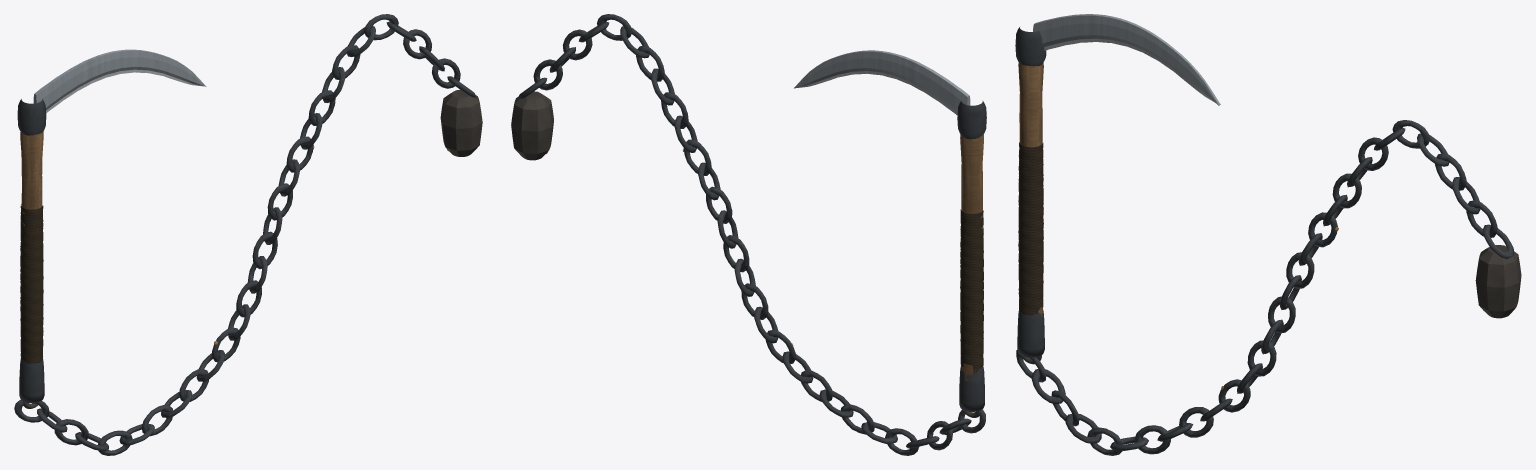
The model's file is chain-sickle.lod1.glb.
3 views of the same model, side by side, from view 1: azimuth 30°, elevation 25°; view 2: azimuth 150°, elevation 25°; view 3: azimuth 330°, elevation 25° (orthographic). The views are drawn at different scales.
Visible parts, largest first — view 1: darksteel / oil-blackened fittings, cord / waxed silk cord wrap, steel / forged blade steel, iron / hammer-scaled wrought iron, wood / oiled hardwood, edge / honed bright bevel; view 2: darksteel / oil-blackened fittings, cord / waxed silk cord wrap, steel / forged blade steel, iron / hammer-scaled wrought iron, wood / oiled hardwood, edge / honed bright bevel; view 3: darksteel / oil-blackened fittings, cord / waxed silk cord wrap, steel / forged blade steel, iron / hammer-scaled wrought iron, wood / oiled hardwood, edge / honed bright bevel.
Part boxes in pixels (x1,y1,x2,y2): darksteel / oil-blackened fittings: [14, 14, 475, 455]; cord / waxed silk cord wrap: [20, 205, 43, 363]; steel / forged blade steel: [33, 49, 206, 110]; iron / hammer-scaled wrought iron: [22, 89, 482, 408]; wood / oiled hardwood: [20, 131, 43, 362]; edge / honed bright bevel: [46, 69, 203, 112]; darksteel / oil-blackened fittings: [518, 14, 986, 455]; cord / waxed silk cord wrap: [960, 209, 983, 372]; steel / forged blade steel: [794, 50, 970, 112]; iron / hammer-scaled wrought iron: [511, 91, 979, 417]; wood / oiled hardwood: [960, 134, 983, 381]; edge / honed bright bevel: [797, 71, 957, 115]; darksteel / oil-blackened fittings: [1015, 27, 1513, 455]; cord / waxed silk cord wrap: [1018, 142, 1043, 315]; steel / forged blade steel: [1033, 14, 1220, 105]; iron / hammer-scaled wrought iron: [1021, 245, 1521, 364]; wood / oiled hardwood: [1018, 62, 1043, 321]; edge / honed bright bevel: [1044, 38, 1214, 102].
Bounding box in the file's own units: 0.7347 × 0.6006 × 0.0693.
Materials: 7 (6 with a texture image).
